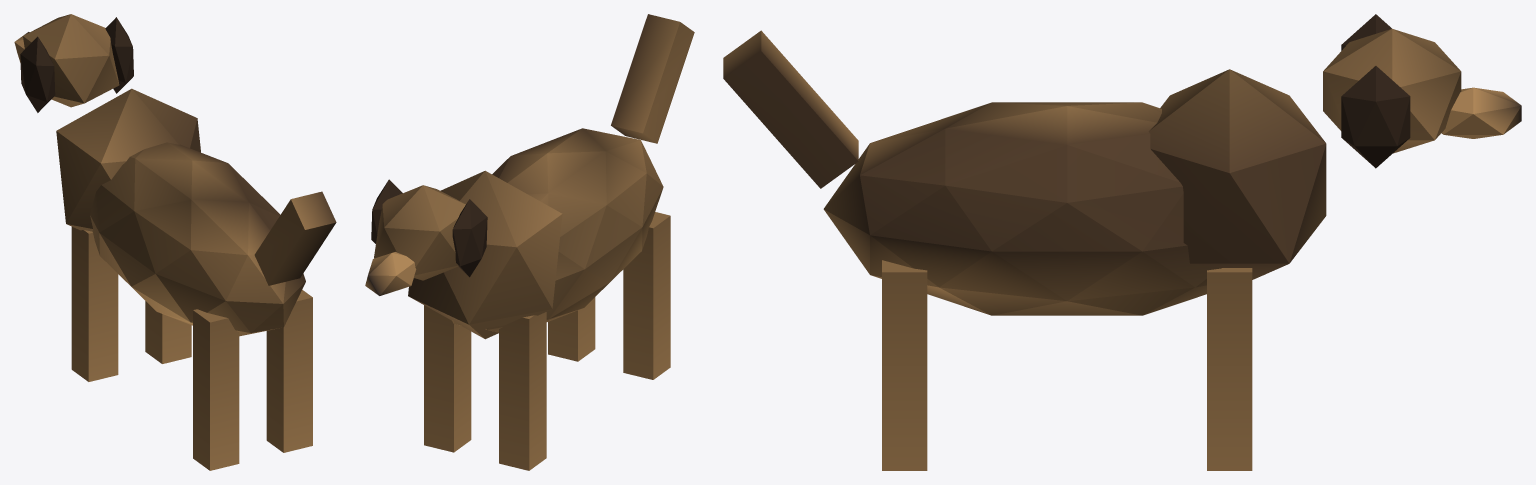
The model's file is dog.glb.
3 views of the same model, side by side, from view 1: azimuth 30°, elevation 25°; view 2: azimuth 150°, elevation 25°; view 3: azimuth 270°, elevation 25° (orthographic). The views are drawn at different scales.
Parts seen in each view (by area): view 1: dog; view 2: dog; view 3: dog.
Part boxes in pixels (x1,y1,x2,y2): dog: [14, 14, 336, 470]; dog: [365, 14, 694, 470]; dog: [723, 14, 1521, 470].
Bounding box in the file's own units: 0.2504 × 0.555 × 0.983.
